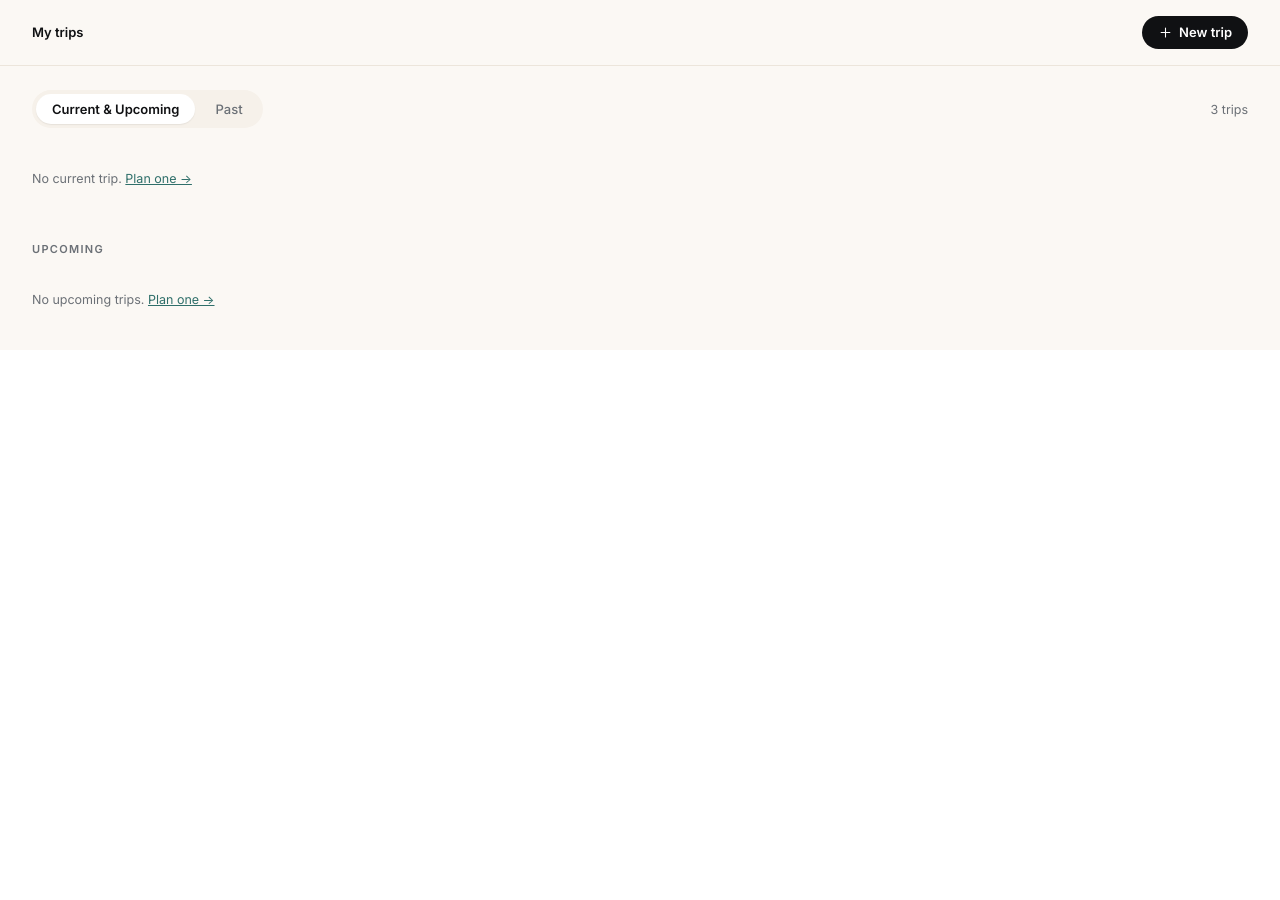
Test case: TripsDashboard — Past tab › filters by continent
The image size is (1280, 900).
Click the tab "Past" at (229, 109), box [200, 94, 259, 124]
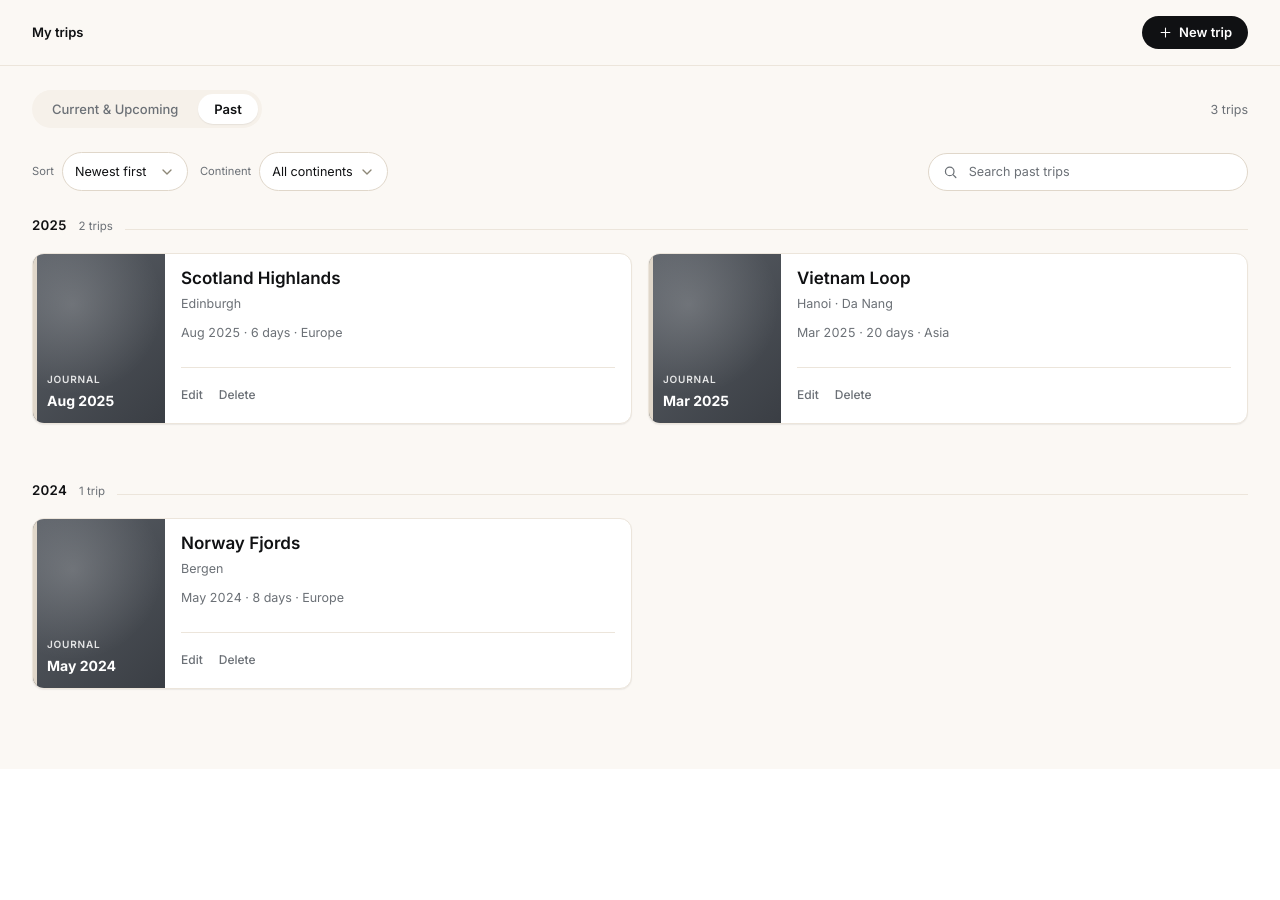
Select "Europe" in the dropdown labelled "Continent" at (324, 172), box [259, 152, 388, 191]
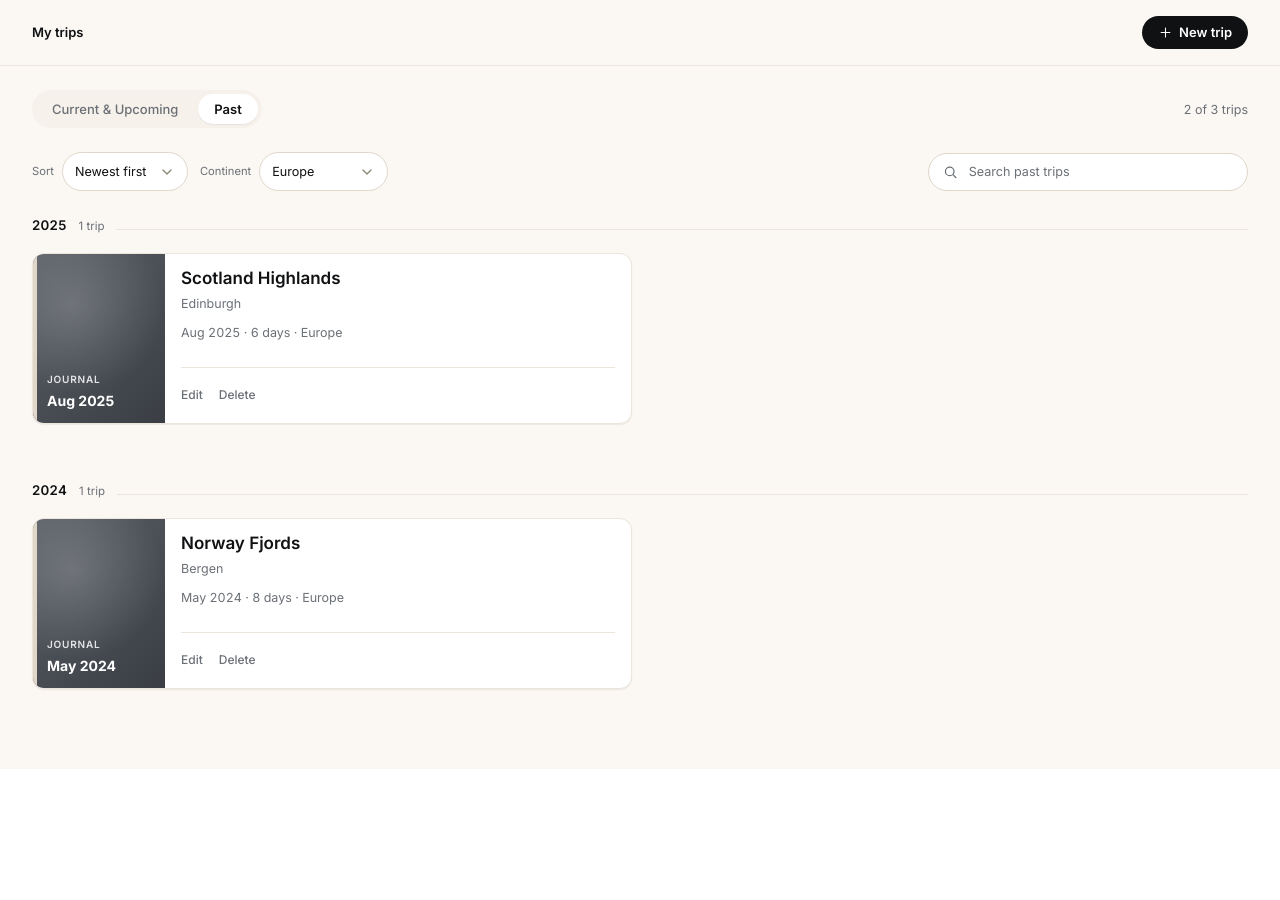
Expected: the heading "Vietnam Loop" is gone
Expected: the text "2 of 3 trips" is shown, [1184, 98, 1248, 120]
